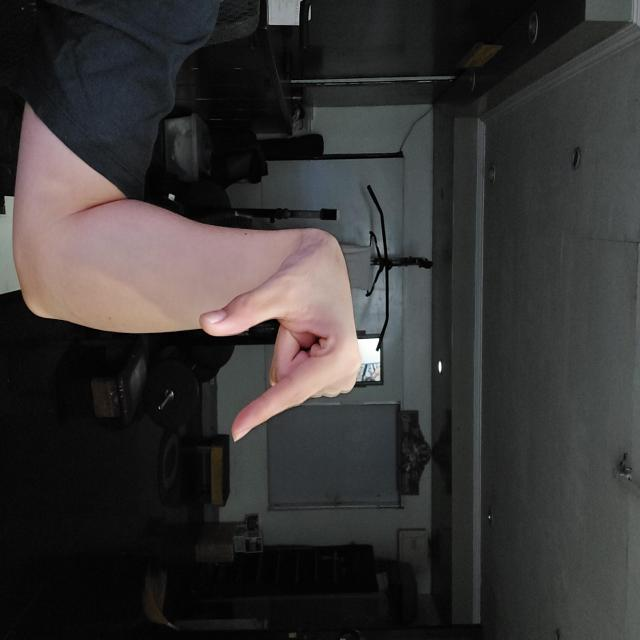Q: (228, 278, 442, 441)
